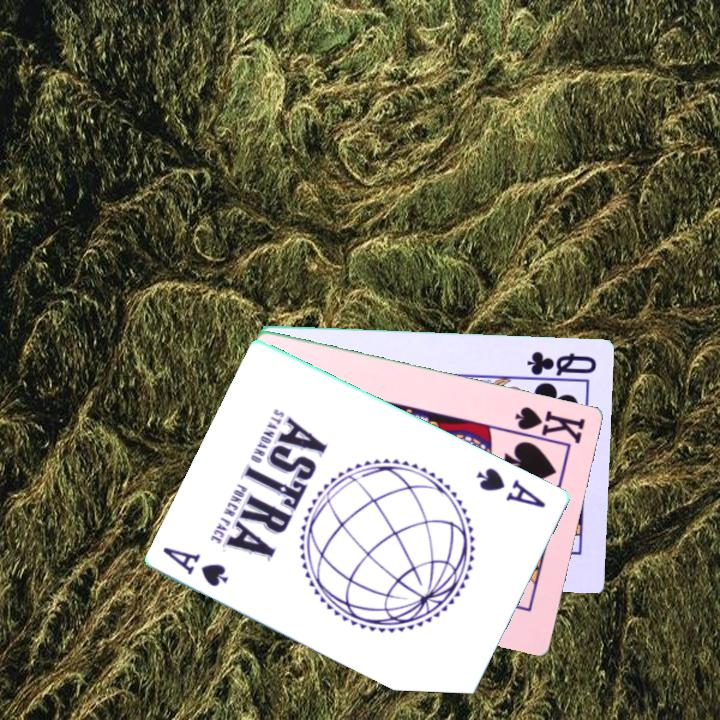As: (159, 542, 232, 590), (476, 464, 549, 511)
Ks: (512, 402, 589, 447)
Qc: (519, 347, 600, 382)
